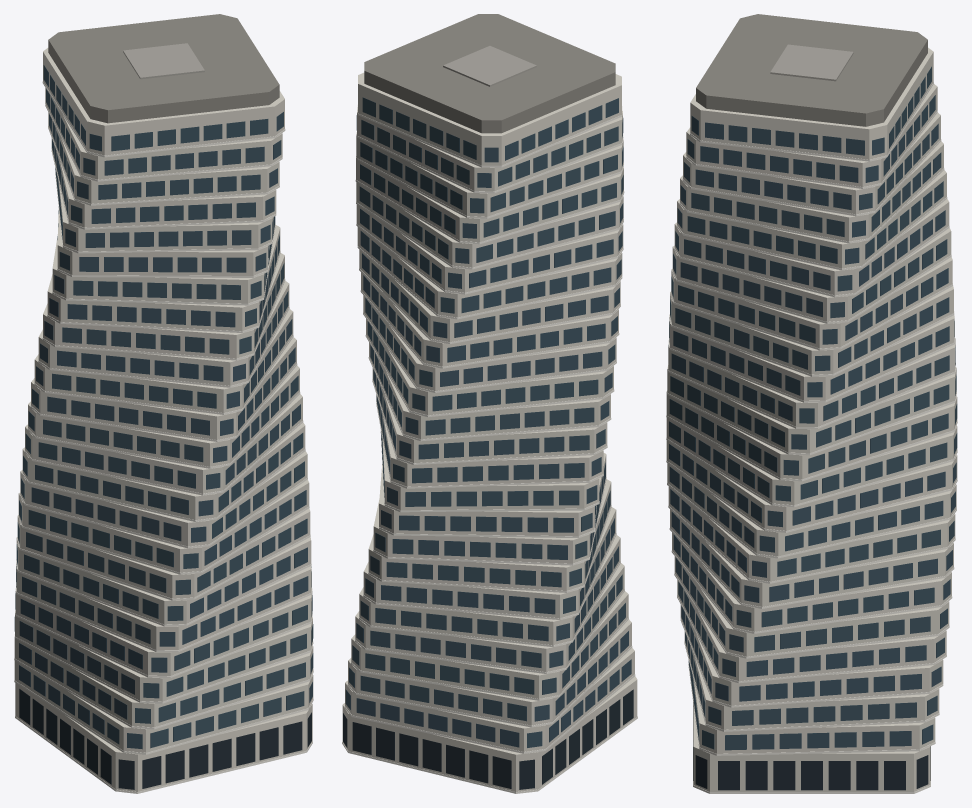
File: tower-sculpture.glb
3 renders of one model, left to right at view 1: azimuth 30°, elevation 25°; view 2: azimuth 150°, elevation 25°; view 3: azimuth 270°, elevation 25°, orthographic. The views are drawn at different scales.
Visible parts, largest first — view 1: Crown, Envelope_25, Envelope_1, Envelope_2, Envelope_4, Envelope_3, Envelope_6, Envelope_7, Envelope_5, Envelope_8, Envelope_9, Envelope_10 (+47 smaller); view 2: Crown, Envelope_25, Envelope_1, Envelope_2, Envelope_3, Envelope_4, Envelope_5, Envelope_23, Envelope_20, Envelope_21, Envelope_22, Envelope_24 (+47 smaller); view 3: Crown, Envelope_25, Envelope_1, Envelope_9, Envelope_11, Envelope_13, Envelope_15, Envelope_14, Envelope_10, Envelope_12, Envelope_16, Envelope_8 (+46 smaller).
Boxes of the visible parts, x1=… form: Crown: x1=48, y1=14, x2=279, y2=123; Envelope_25: x1=43, y1=48, x2=284, y2=155; Envelope_1: x1=15, y1=683, x2=312, y2=791; Envelope_2: x1=14, y1=661, x2=313, y2=752; Envelope_4: x1=15, y1=610, x2=312, y2=701; Envelope_3: x1=14, y1=634, x2=313, y2=727; Envelope_6: x1=16, y1=559, x2=311, y2=650; Envelope_7: x1=16, y1=537, x2=311, y2=624; Envelope_5: x1=15, y1=588, x2=312, y2=675; Envelope_8: x1=17, y1=508, x2=310, y2=598; Envelope_9: x1=18, y1=479, x2=309, y2=572; Envelope_10: x1=20, y1=451, x2=307, y2=546; Crown: x1=364, y1=14, x2=615, y2=133; Envelope_25: x1=358, y1=72, x2=621, y2=165; Envelope_1: x1=342, y1=676, x2=637, y2=791; Envelope_2: x1=345, y1=647, x2=634, y2=751; Envelope_3: x1=348, y1=619, x2=631, y2=725; Envelope_4: x1=351, y1=591, x2=628, y2=698; Envelope_5: x1=355, y1=563, x2=624, y2=672; Envelope_23: x1=356, y1=132, x2=623, y2=216; Envelope_20: x1=356, y1=204, x2=623, y2=292; Envelope_21: x1=356, y1=182, x2=623, y2=267; Envelope_22: x1=356, y1=156, x2=623, y2=242; Envelope_24: x1=357, y1=107, x2=622, y2=191; Crown: x1=696, y1=14, x2=927, y2=126; Envelope_25: x1=690, y1=47, x2=933, y2=159; Envelope_1: x1=693, y1=705, x2=930, y2=791; Envelope_9: x1=668, y1=486, x2=955, y2=581; Envelope_11: x1=666, y1=440, x2=957, y2=530; Envelope_13: x1=666, y1=390, x2=957, y2=479; Envelope_15: x1=668, y1=338, x2=955, y2=426; Envelope_14: x1=667, y1=365, x2=956, y2=453; Envelope_10: x1=667, y1=463, x2=956, y2=556; Envelope_12: x1=666, y1=418, x2=957, y2=505; Envelope_16: x1=669, y1=311, x2=954, y2=400; Envelope_8: x1=670, y1=509, x2=953, y2=606.
Bounding box in the file's own units: 31.5 × 81.76 × 31.65.
